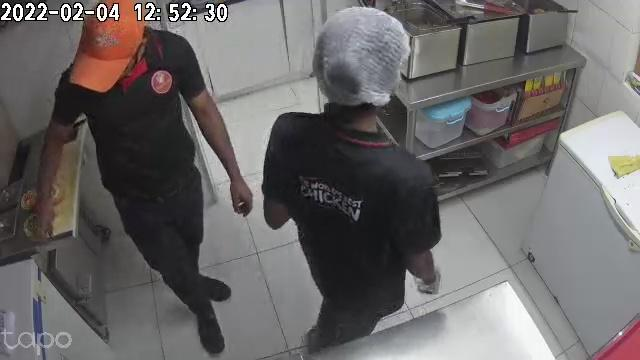no_gloves: (226, 165, 254, 218)
